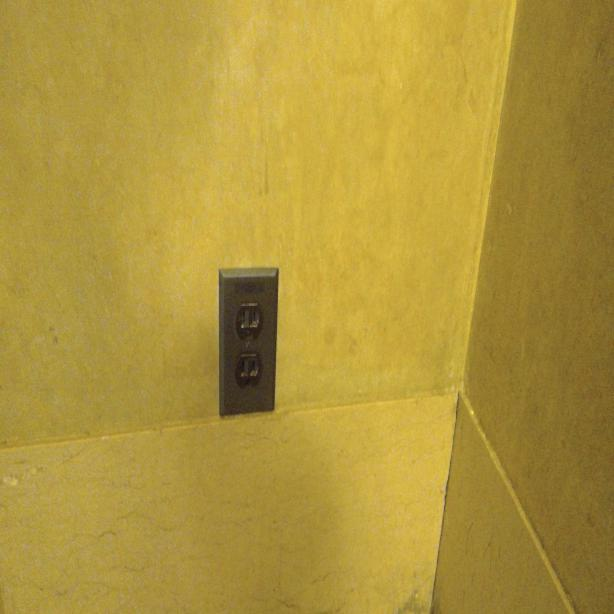typeb: (236, 302, 262, 342), (236, 357, 260, 389)
